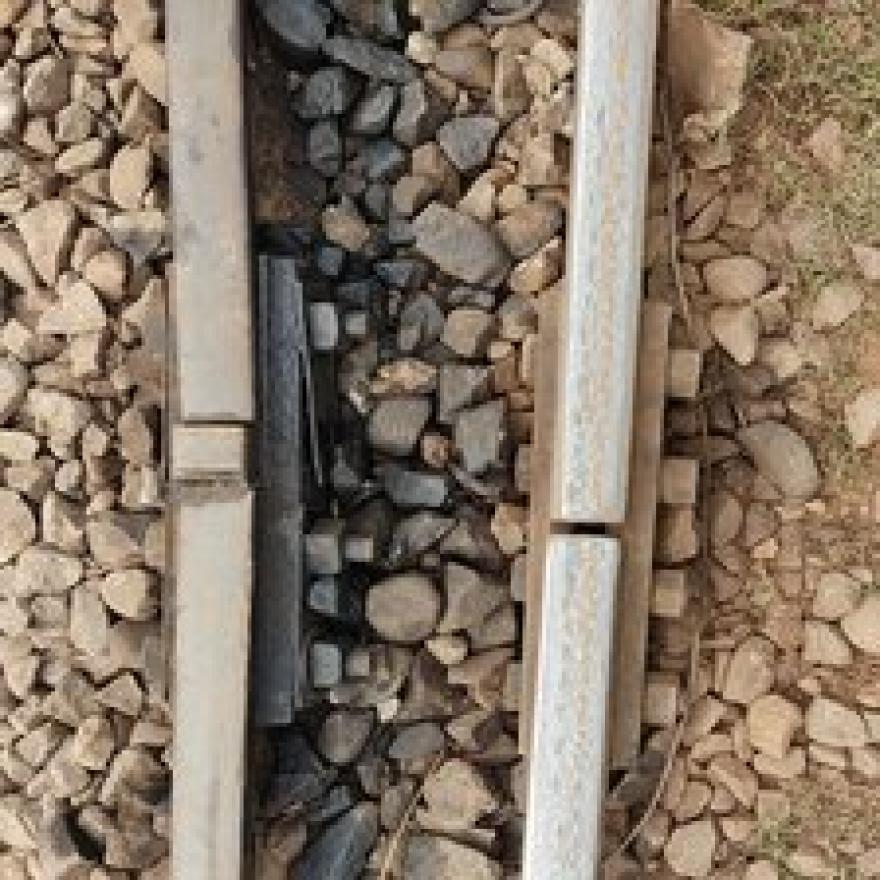railway-gap: (148, 342, 285, 506), (523, 468, 649, 592)
